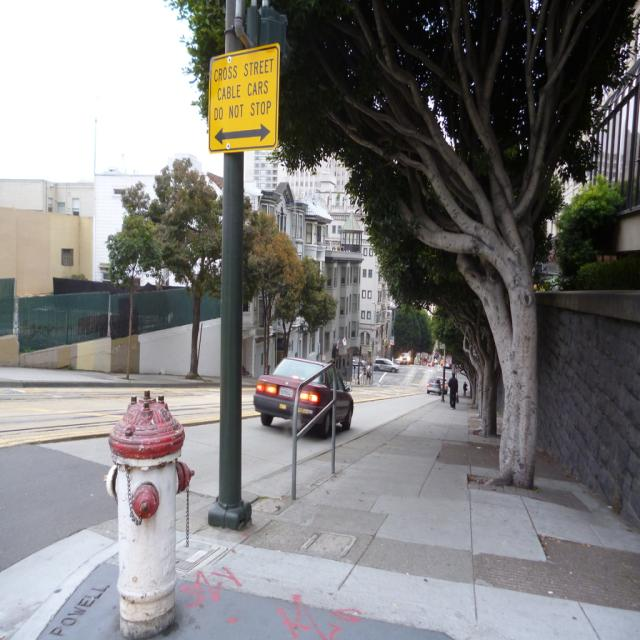fire_hydrant: (106, 390, 196, 636)
